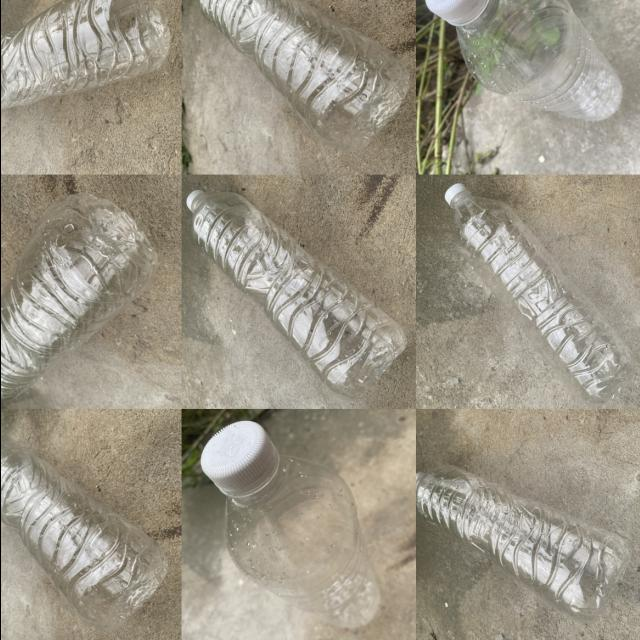plastik: (185, 190, 406, 397), (445, 185, 633, 406), (200, 421, 379, 628), (416, 465, 629, 623), (0, 436, 167, 630), (0, 193, 156, 400), (199, 0, 409, 152), (424, 0, 621, 121), (0, 0, 169, 110)
